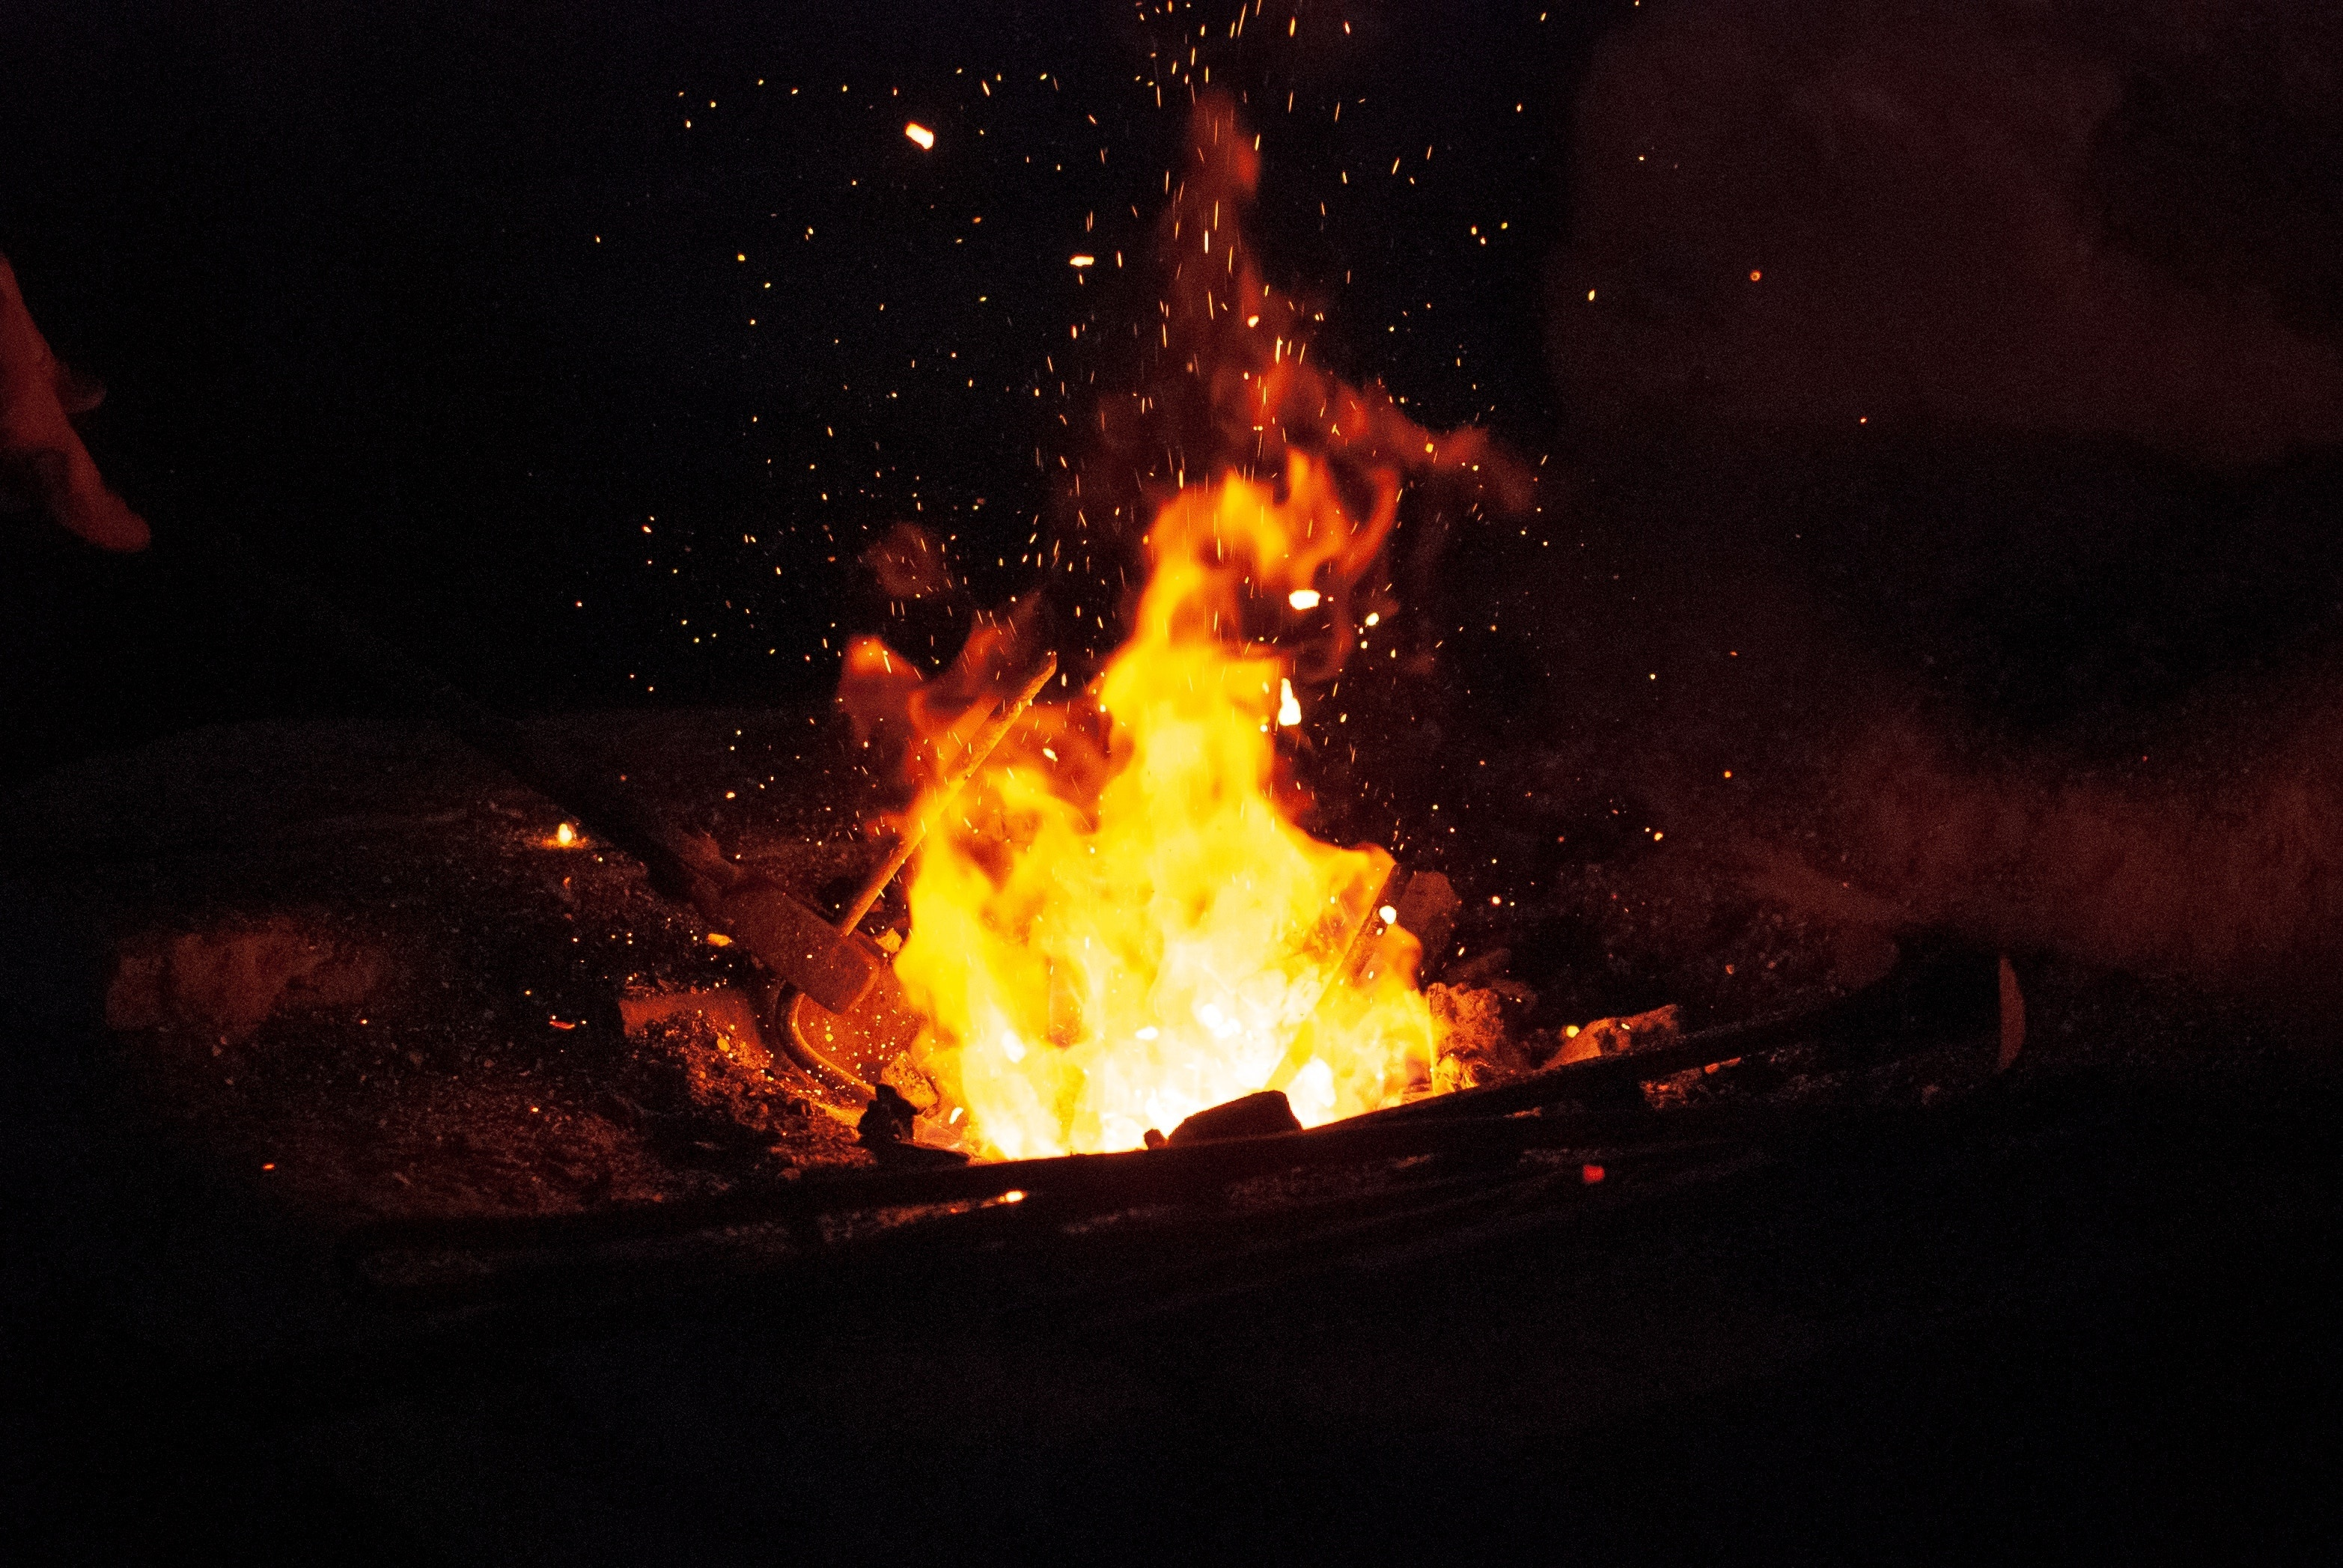fire: (803, 437, 1519, 1181)
